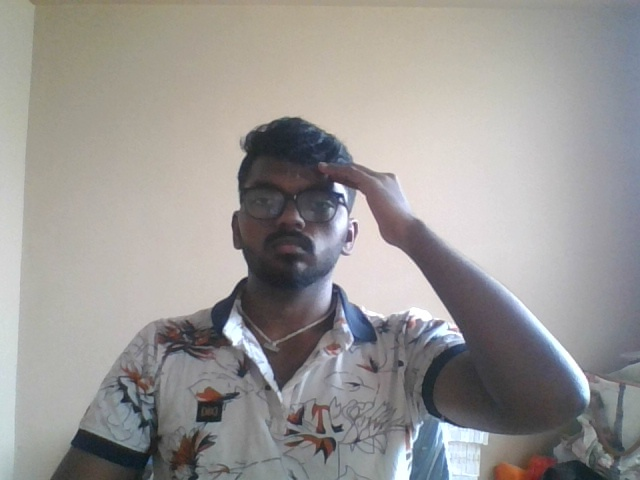Hello: (305, 145, 431, 282)
